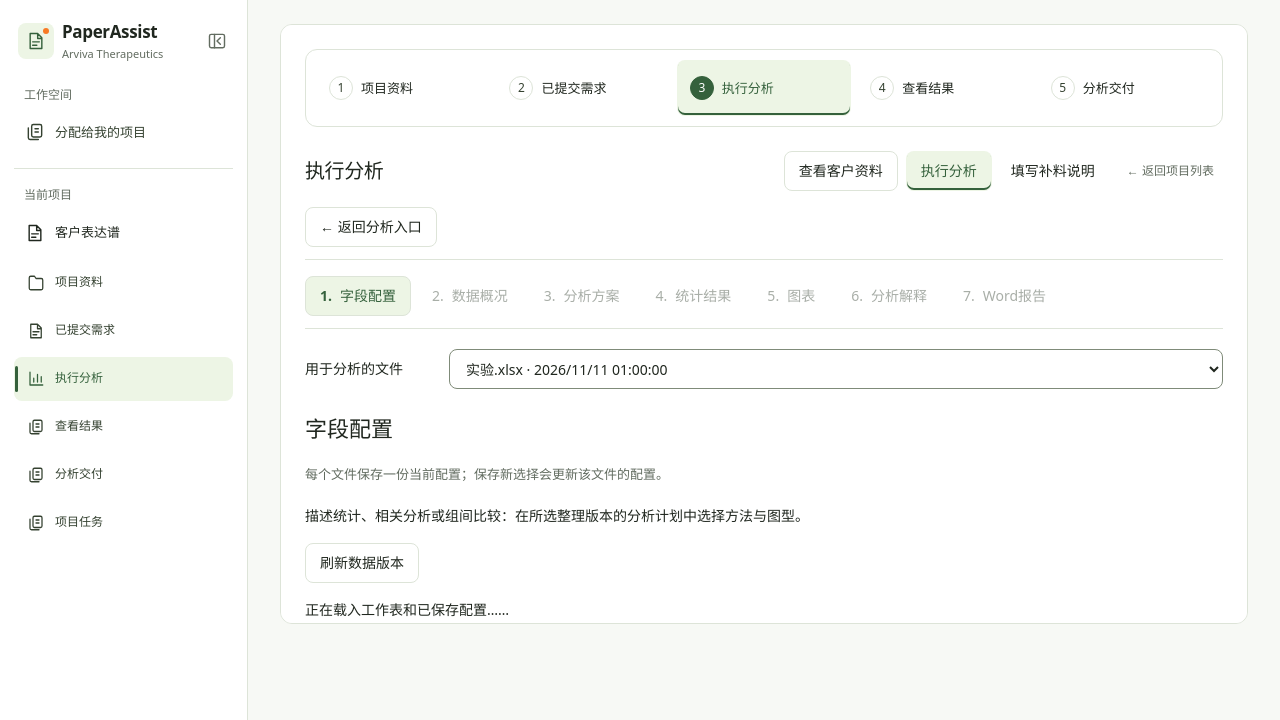
Test case: marks missing materials from analysis without leaving the current view
Click the button "填写补料说明".
click(1053, 171)  # box [996,151,1110,191]
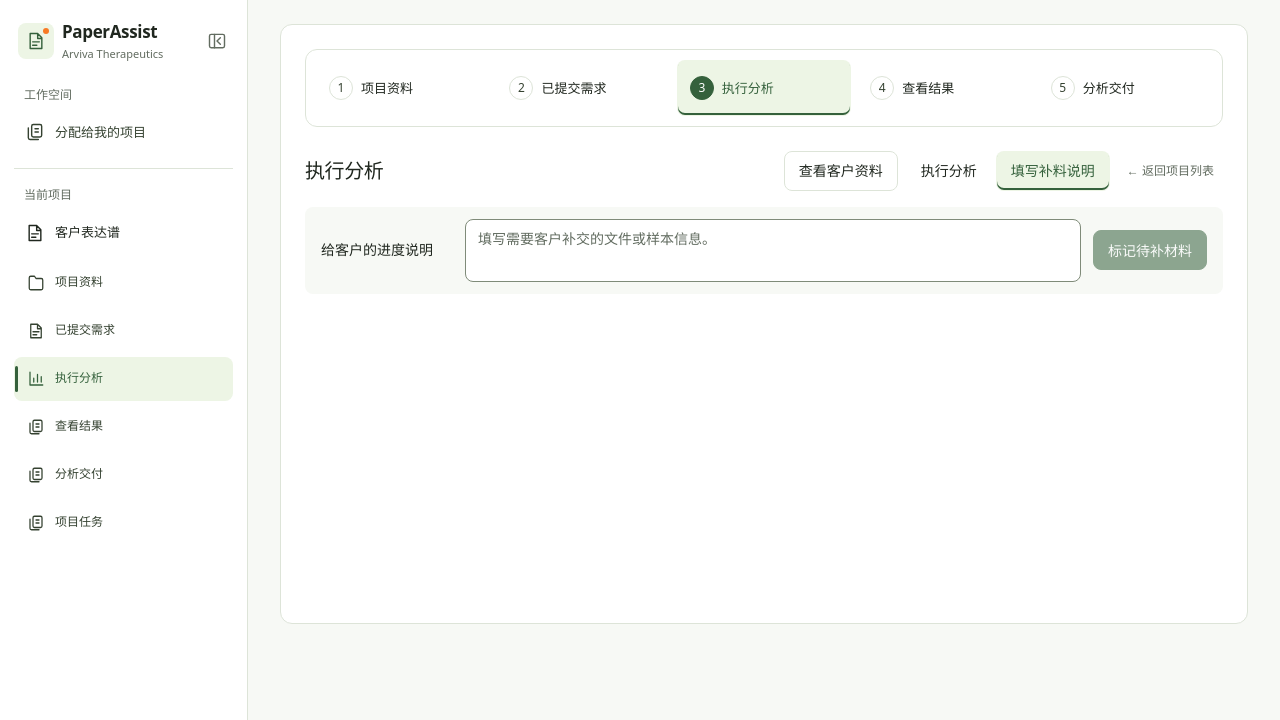
Check: the label "用于分析的文件" is gone
Check: the button "标记待补材料" is disabled, box [1093,230,1207,270]
Type "请补充分组表。" into the text box labelled "给客户的进度说明".
click(773, 250); type("请补充分组表。")  # box [465,219,1081,282]
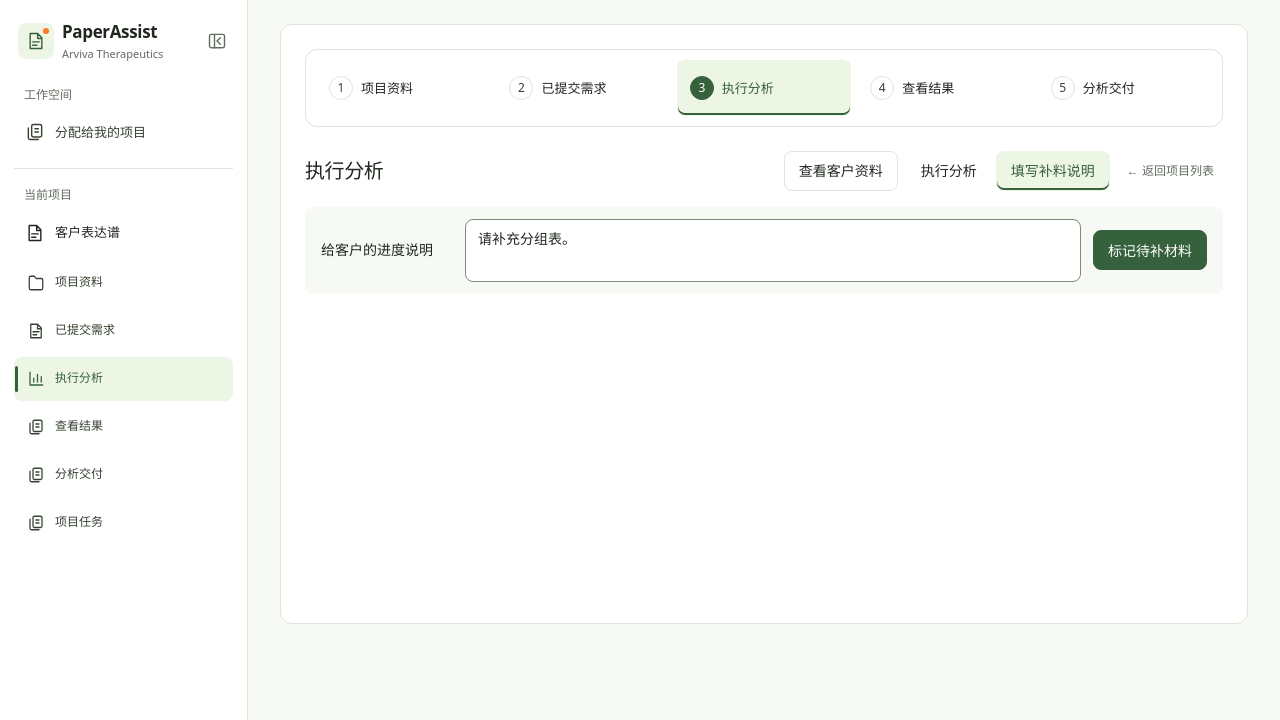
Click the button "标记待补材料".
click(1150, 250)  # box [1093,230,1207,270]
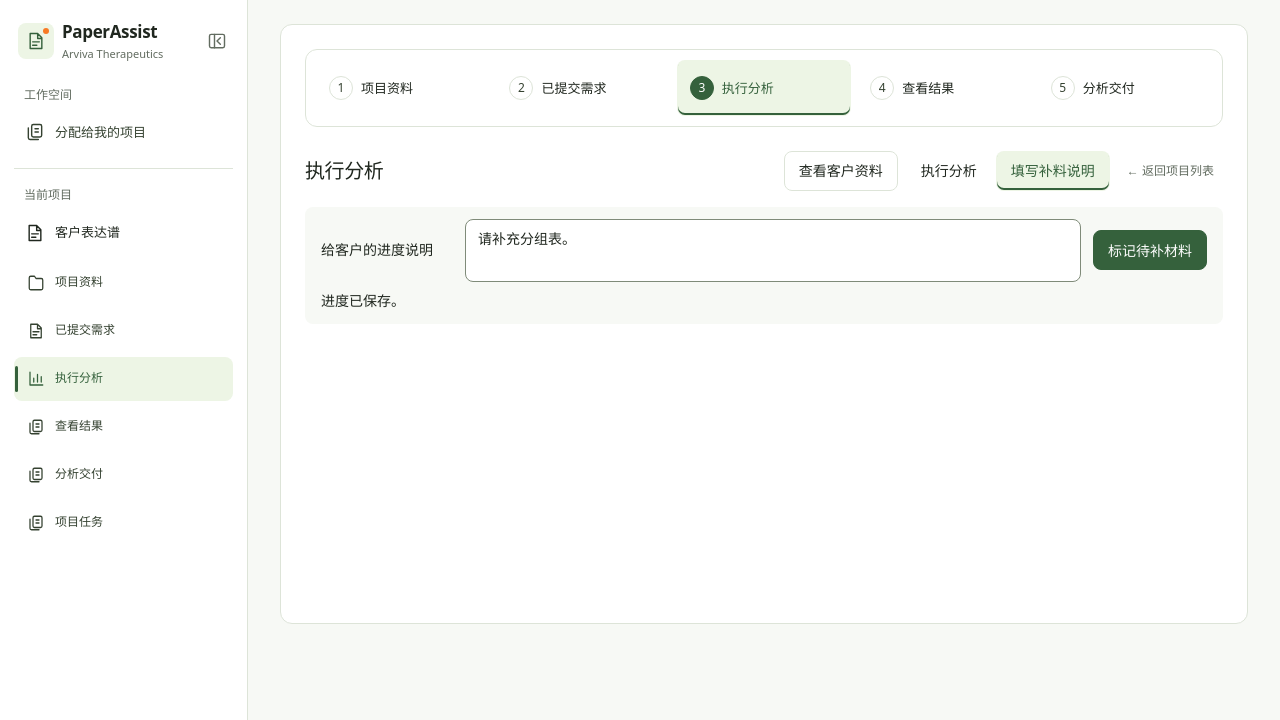
Check: the text "进度已保存。" is shown, box [321,291,405,310]
Click the 1st button "执行分析".
click(949, 171)  # box [906,151,992,191]
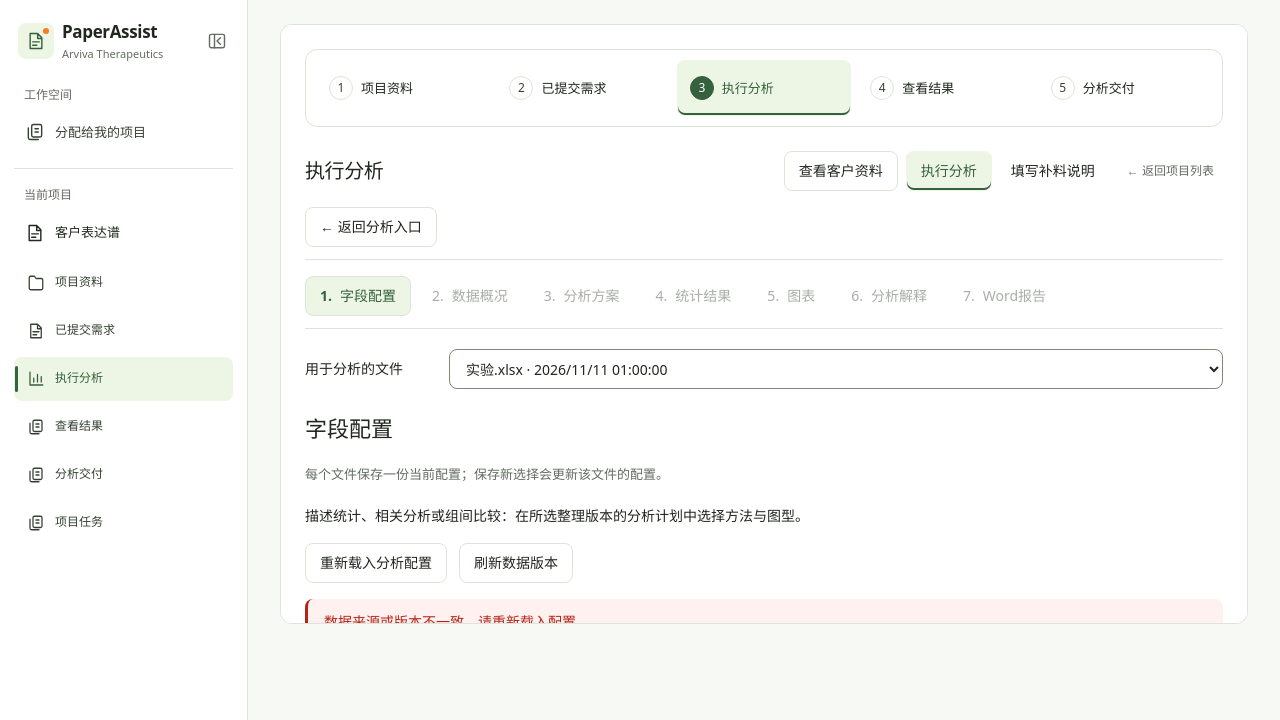
Check: the button "待补材料" is gone
Check: the dropdown labelled "用于分析的文件" shows "实验.xlsx · 2026/11/11 01:00:00", box [449,349,1223,389]
